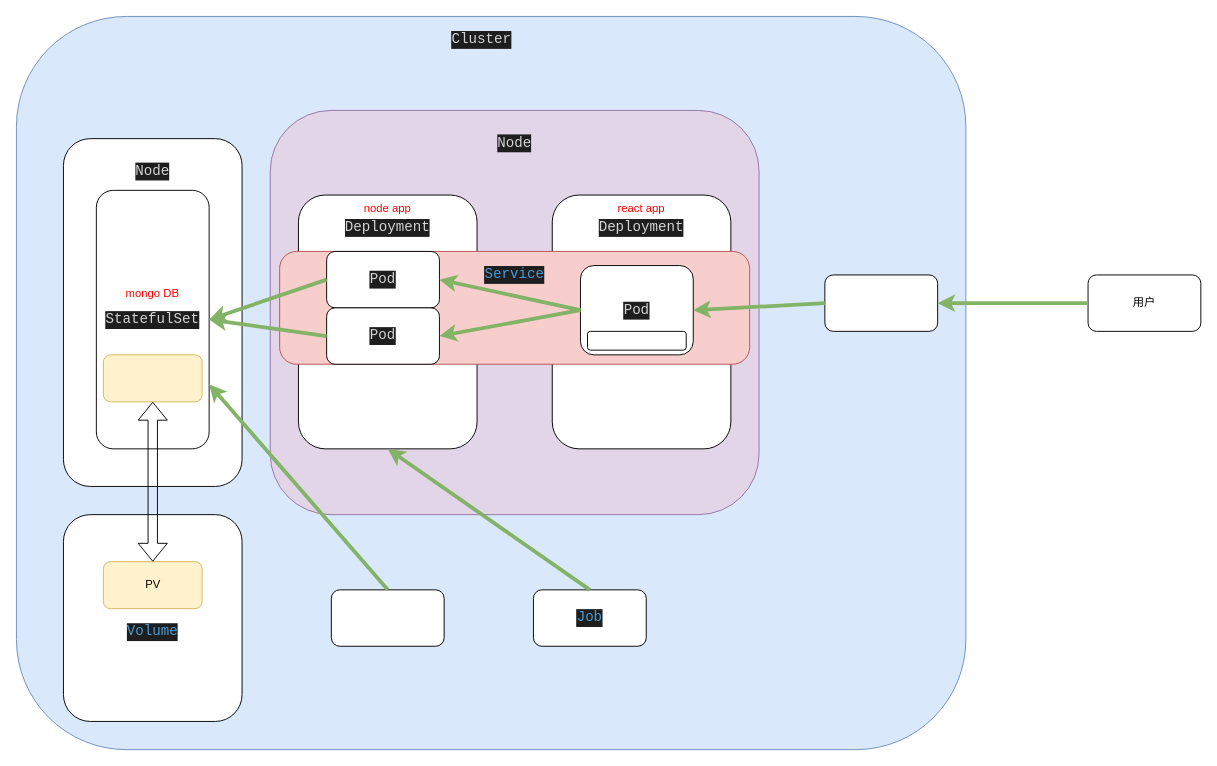
This 1217x766 diagram has some shape labels left out. The shapes that lost their labels are listed below. From the top down, each one's centre as x and y in pixels, then its label:
[881,302]: Ingress
[636,340]: DaemonSet
[152,378]: PVC
[387,617]: CronJob
